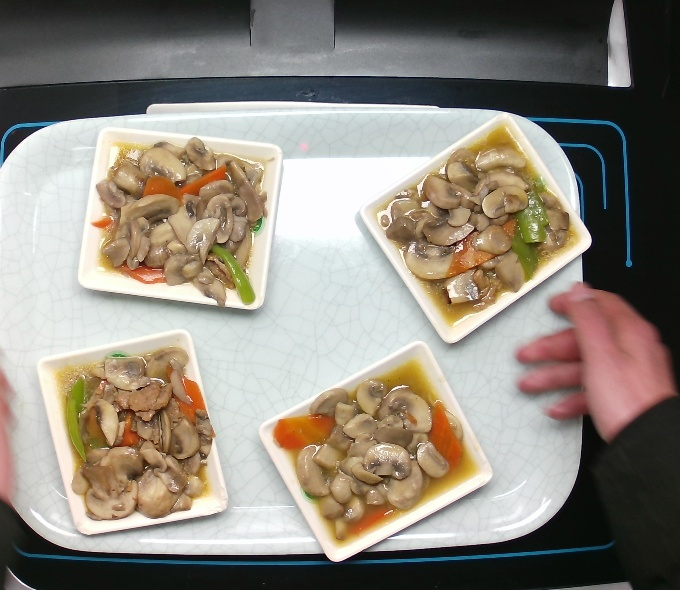wcq-HouTouGuChaoRou: (362, 129, 576, 328), (268, 353, 483, 549), (93, 124, 286, 315), (54, 340, 228, 526)
